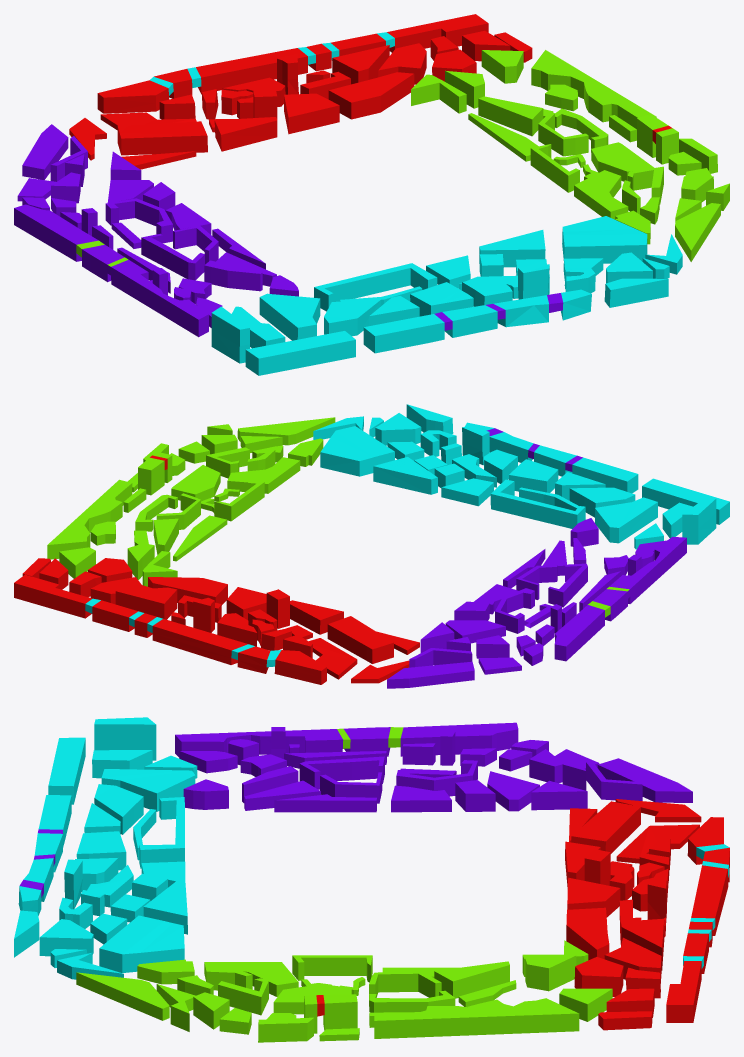
Rendered from Middle_Floor_Detached.fbx.
The picture shows the model from 3 angles, top to bottom: view 1: azimuth 30°, elevation 25°; view 2: azimuth 150°, elevation 25°; view 3: azimuth 270°, elevation 25°; orthographic projection. The views are drawn at different scales.
Visible parts, largest first — view 1: Building_Middle32, Building_Middle01, Building_Middle86, Building_Middle04, Building_Middle77, Building_Middle52, Building_Middle49, Building_Middle82, Building_Middle06, Building_Middle80, Building_Middle40, Building_Middle25 (+55 smaller); view 2: Building_Middle32, Building_Middle01, Building_Middle86, Building_Middle52, Building_Middle04, Building_Middle82, Building_Middle49, Building_Middle80, Building_Middle53, Building_Middle95, Building_Middle77, Building_Middle36 (+61 smaller); view 3: Building_Middle01, Building_Middle32, Building_Middle04, Building_Middle52, Building_Middle86, Building_Middle80, Building_Middle58, Building_Middle49, Building_Middle78, Building_Middle53, Building_Middle06, Building_Middle71 (+74 smaller).
Part boxes in pixels (<box>): Building_Middle32: <box>97,14,488,113</box>; Building_Middle01: <box>14,204,208,337</box>; Building_Middle86: <box>363,289,591,353</box>; Building_Middle04: <box>531,50,656,129</box>; Building_Middle77: <box>245,331,355,375</box>; Building_Middle52: <box>562,216,647,263</box>; Building_Middle49: <box>117,121,207,155</box>; Building_Middle82: <box>314,263,437,311</box>; Building_Middle06: <box>328,72,414,119</box>; Building_Middle80: <box>259,293,320,340</box>; Building_Middle40: <box>284,93,339,134</box>; Building_Middle25: <box>574,170,628,219</box>; Building_Middle32: <box>14,574,326,684</box>; Building_Middle01: <box>554,536,686,661</box>; Building_Middle86: <box>465,422,638,493</box>; Building_Middle52: <box>320,426,394,476</box>; Building_Middle04: <box>47,479,132,559</box>; Building_Middle82: <box>490,479,585,528</box>; Building_Middle49: <box>327,616,393,663</box>; Building_Middle80: <box>595,497,657,543</box>; Building_Middle53: <box>387,661,474,688</box>; Building_Middle95: <box>373,457,437,494</box>; Building_Middle77: <box>642,478,729,524</box>; Building_Middle36: <box>115,587,177,619</box>; Building_Middle01: <box>175,722,518,757</box>; Building_Middle32: <box>666,817,729,1022</box>; Building_Middle04: <box>374,998,579,1038</box>; Building_Middle52: <box>99,915,184,972</box>; Building_Middle86: <box>18,795,71,915</box>; Building_Middle80: <box>101,769,195,811</box>; Building_Middle58: <box>76,972,169,1020</box>; Building_Middle49: <box>571,801,640,853</box>; Building_Middle78: <box>94,717,156,760</box>; Building_Middle53: <box>597,758,692,802</box>; Building_Middle06: <box>566,907,609,960</box>; Building_Middle71: <box>299,756,384,789</box>.
Bounding box in the file's own units: 334 × 18.94 × 335.
